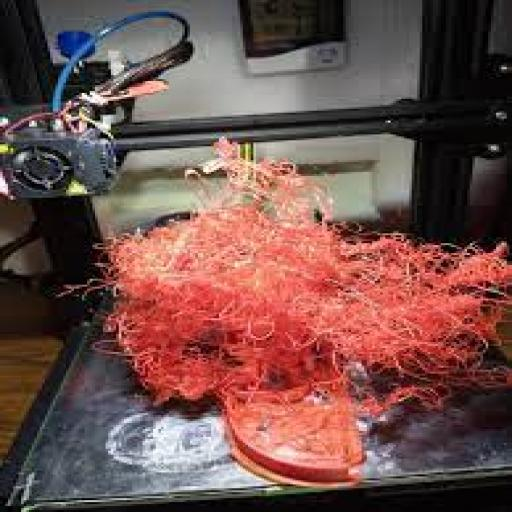spaghetti: (60, 145, 473, 411)
